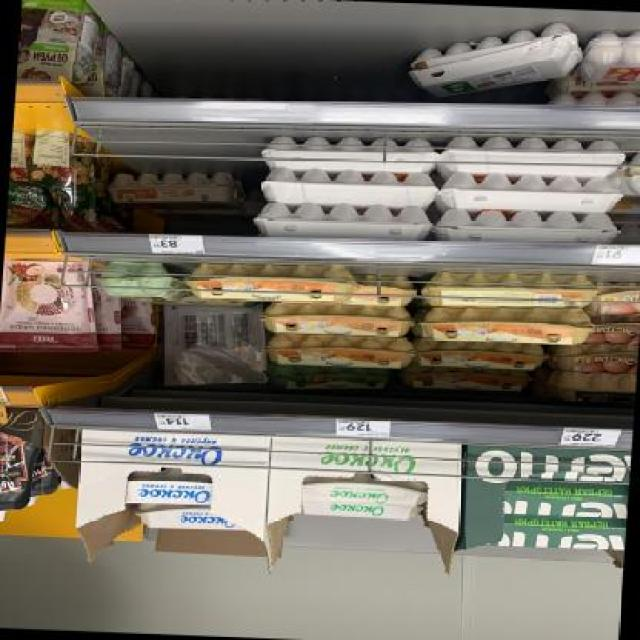Egg: (0, 256, 103, 355), (6, 125, 102, 229), (181, 261, 365, 307), (420, 304, 594, 351), (16, 0, 100, 89), (258, 301, 419, 339), (105, 170, 247, 212), (263, 332, 419, 370), (294, 472, 434, 508), (0, 408, 42, 526), (418, 339, 553, 372), (127, 501, 251, 534), (266, 364, 396, 394), (398, 365, 536, 393), (124, 468, 216, 507), (547, 340, 638, 376), (546, 372, 636, 408), (294, 502, 428, 526), (110, 297, 162, 352), (101, 260, 170, 296), (588, 280, 640, 316), (591, 312, 640, 346)
